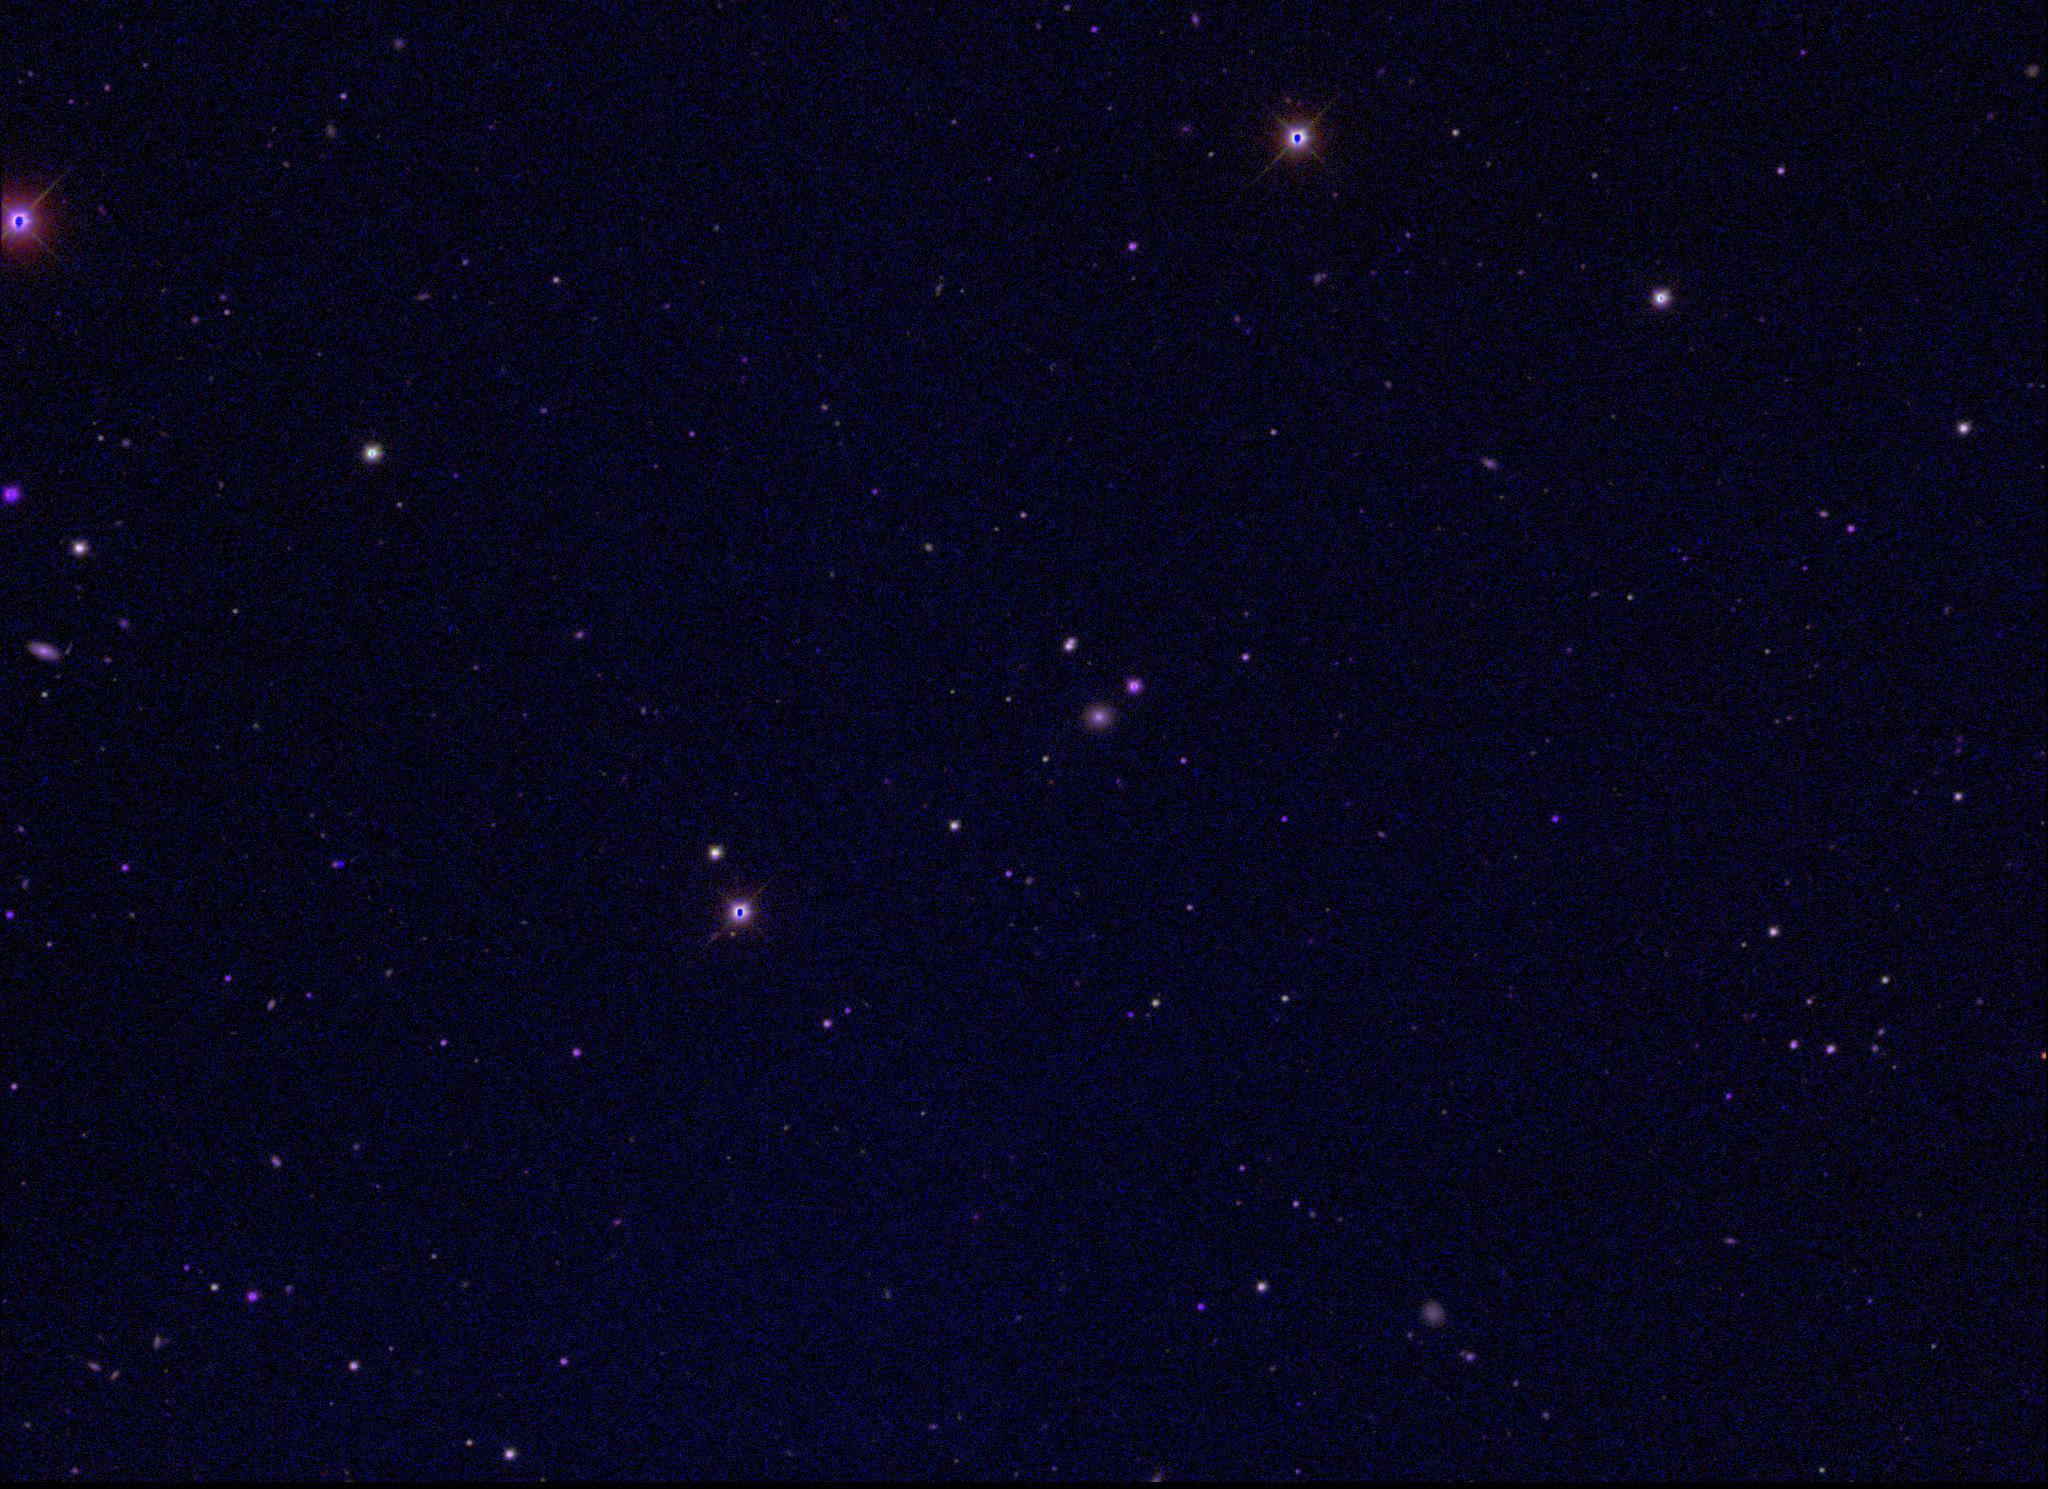L: (336, 854, 348, 869)
